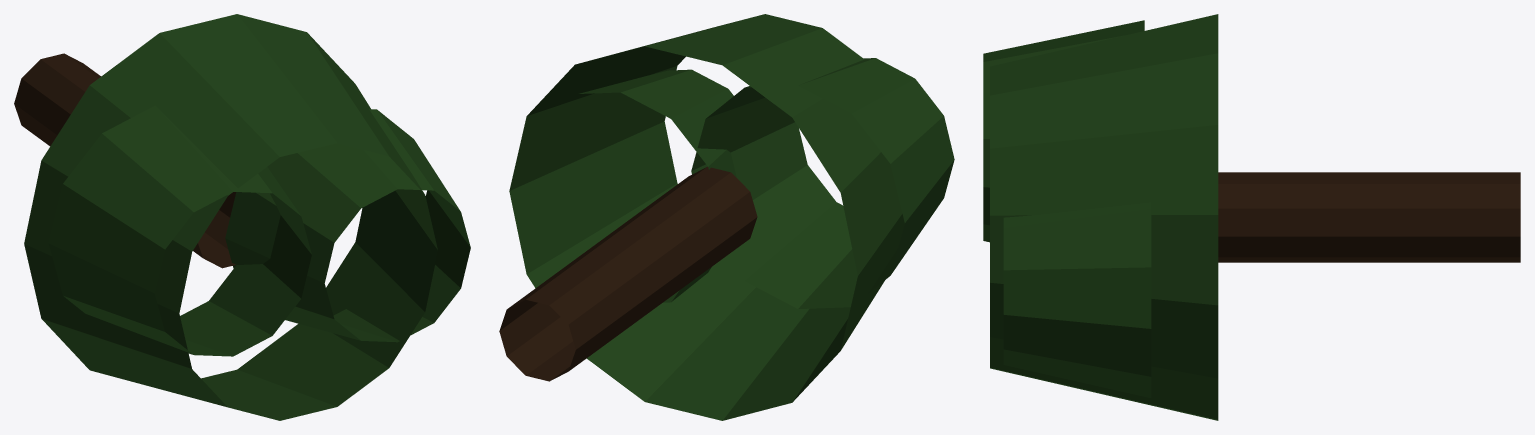
File: SM_CommonBroadleafTree.obj
3 renders of one model, left to right at view 1: azimuth 30°, elevation 25°; view 2: azimuth 150°, elevation 25°; view 3: azimuth 270°, elevation 25°, orthographic. The views are drawn at different scales.
Visible parts, largest first — view 1: SM_CommonBroadleafTree; view 2: SM_CommonBroadleafTree; view 3: SM_CommonBroadleafTree.
Boxes of the visible parts, bbox=[...] form: SM_CommonBroadleafTree: bbox=[14, 14, 470, 420]; SM_CommonBroadleafTree: bbox=[499, 14, 954, 420]; SM_CommonBroadleafTree: bbox=[983, 14, 1520, 420].
Size of the model in its own units: 340 by 302 by 400.
